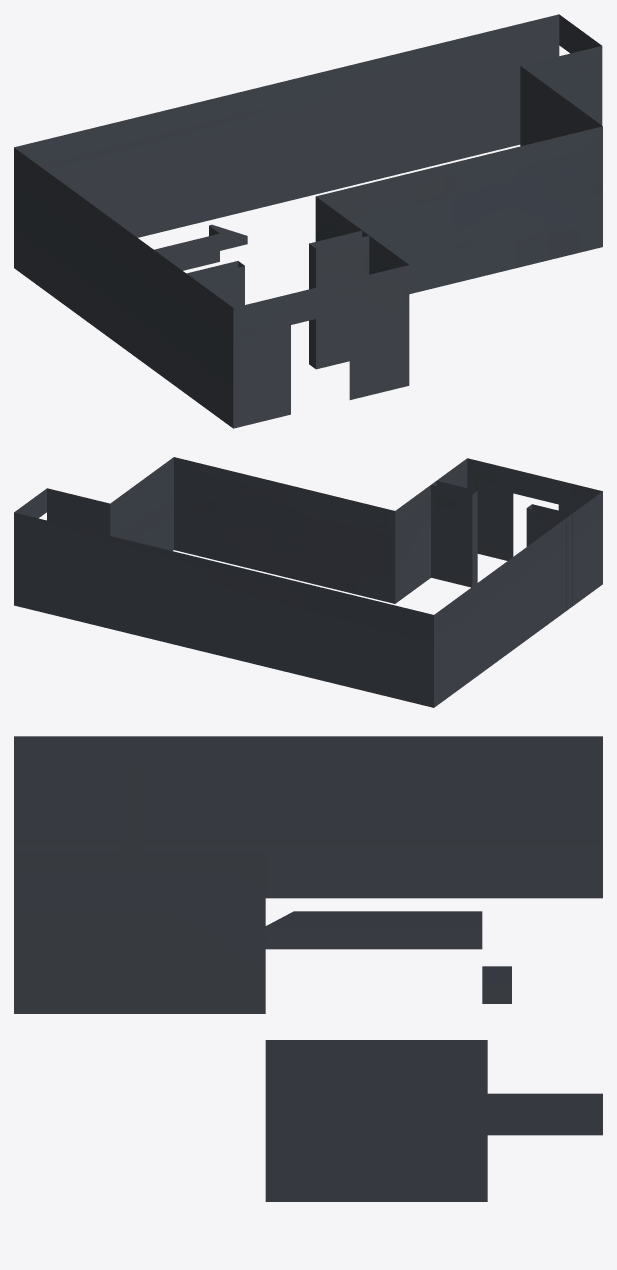
File: Wall_Stage1.fbx
3 views of the same model, one above another, from view 1: azimuth 30°, elevation 25°; view 2: azimuth 150°, elevation 25°; view 3: azimuth 270°, elevation 25° (orthographic). The views are drawn at different scales.
Parts seen in each view (by area): view 1: terrain_wall_1210101_1; view 2: terrain_wall_1210101_1; view 3: terrain_wall_1210101_1.
Part boxes in pixels (box(x1,y1,x2,y2)): terrain_wall_1210101_1: box(14, 14, 602, 428); terrain_wall_1210101_1: box(14, 457, 602, 707); terrain_wall_1210101_1: box(14, 736, 602, 1201).
Bounding box in the file's own units: 3984 × 844 × 2775.
